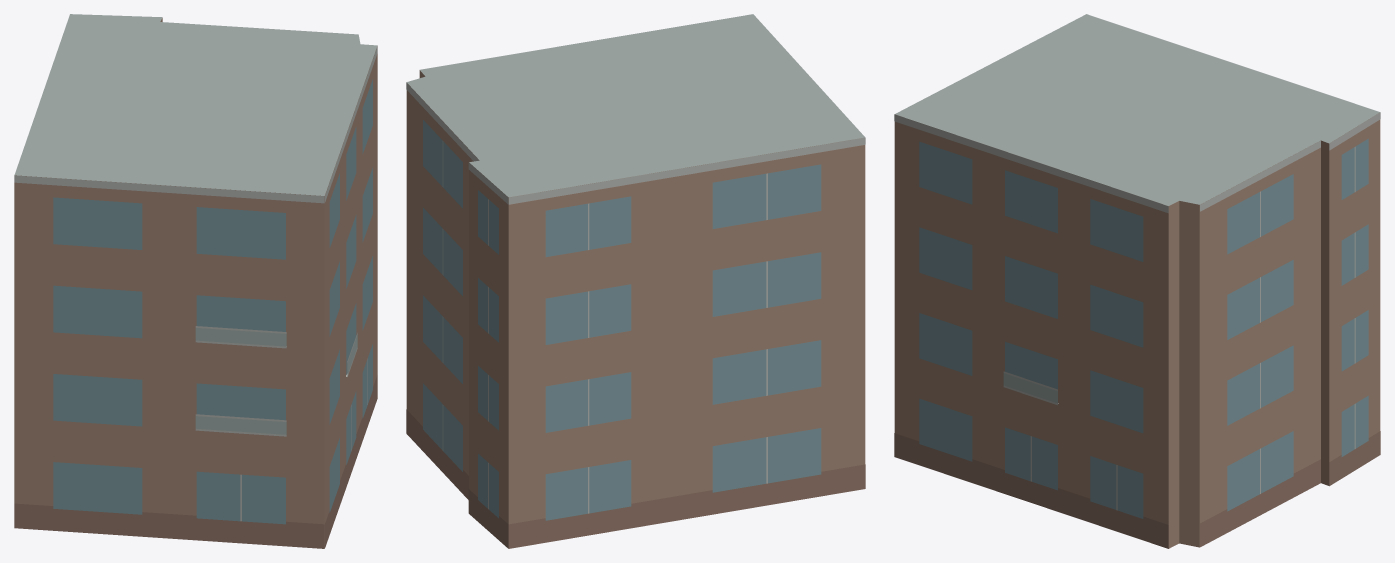
The model's file is survey-upis-32655726.glb.
3 renders of one model, left to right at view 1: azimuth 30°, elevation 25°; view 2: azimuth 150°, elevation 25°; view 3: azimuth 270°, elevation 25°, orthographic. The views are drawn at different scales.
Visible parts, largest first — view 1: survey-upis-32655726.tmp; view 2: survey-upis-32655726.tmp; view 3: survey-upis-32655726.tmp.
Part boxes in pixels (x1,y1,x2,y2): survey-upis-32655726.tmp: (14, 14, 377, 548); survey-upis-32655726.tmp: (406, 14, 865, 548); survey-upis-32655726.tmp: (894, 14, 1380, 548).
Size of the model in its own units: 14.08 by 11.7 by 15.04.
